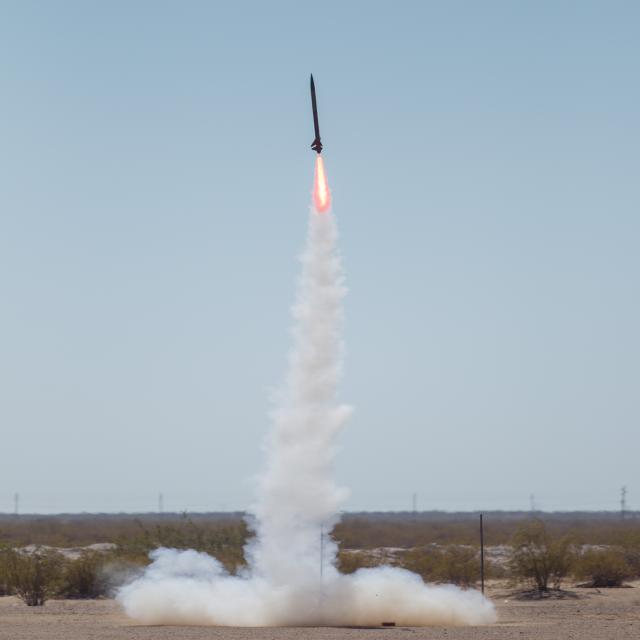Rocket: (310, 72, 324, 154)
